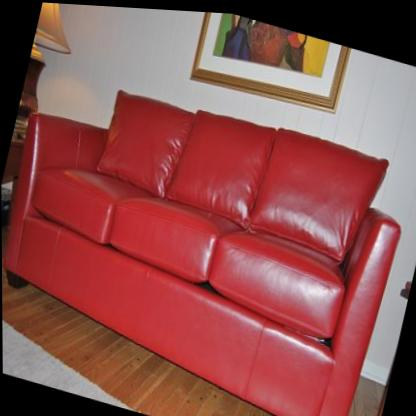Sofa: (0, 52, 416, 416)
